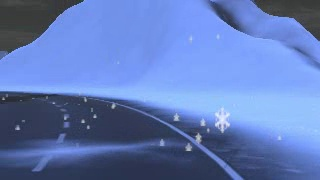Lane: (0, 90, 245, 179)
